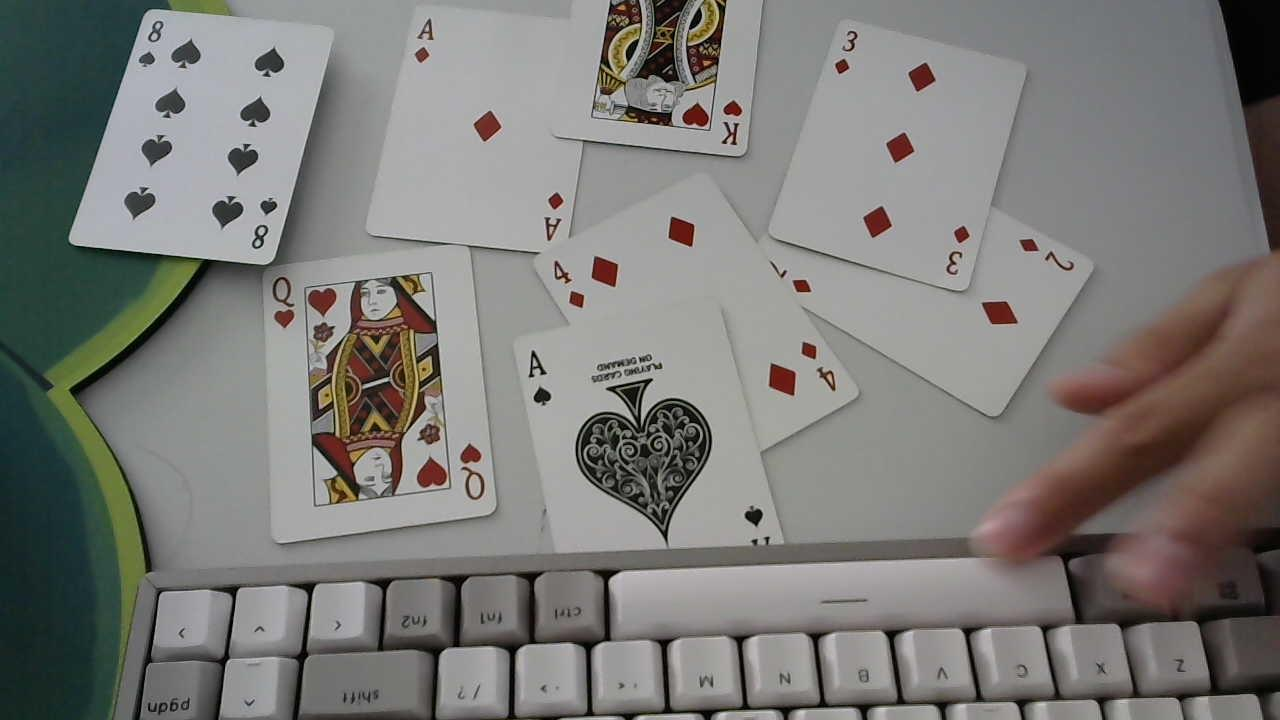2D: (1010, 233, 1088, 278)
3D: (940, 221, 975, 285), (830, 27, 868, 78)
4D: (796, 337, 844, 397), (545, 257, 587, 316)
8S: (135, 12, 167, 73), (250, 193, 279, 255)
AD: (538, 182, 566, 247), (413, 17, 438, 70)
AS: (521, 344, 562, 408)
KH: (712, 95, 749, 149)
QH: (459, 439, 490, 508), (267, 276, 301, 334)
